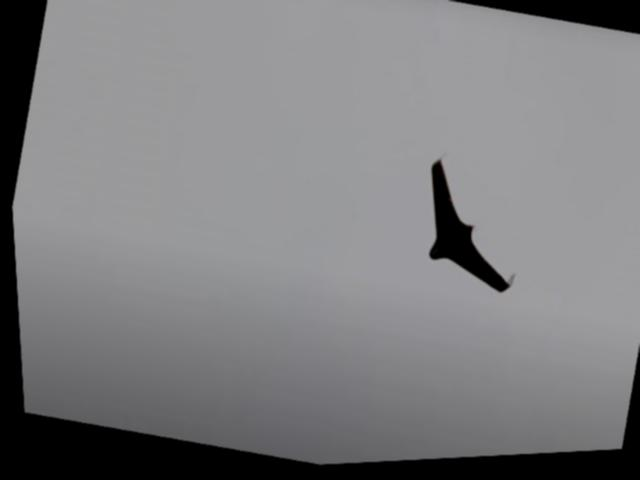iha: (397, 148, 540, 307)
